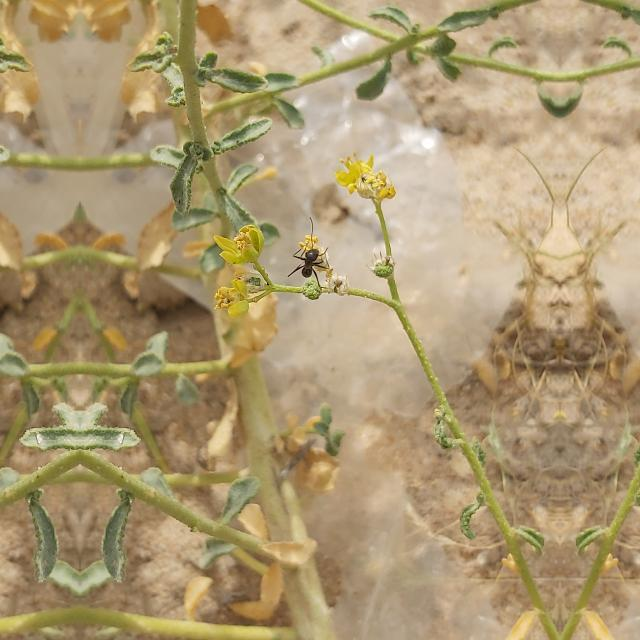Cataglyphis: (288, 226, 330, 286)
